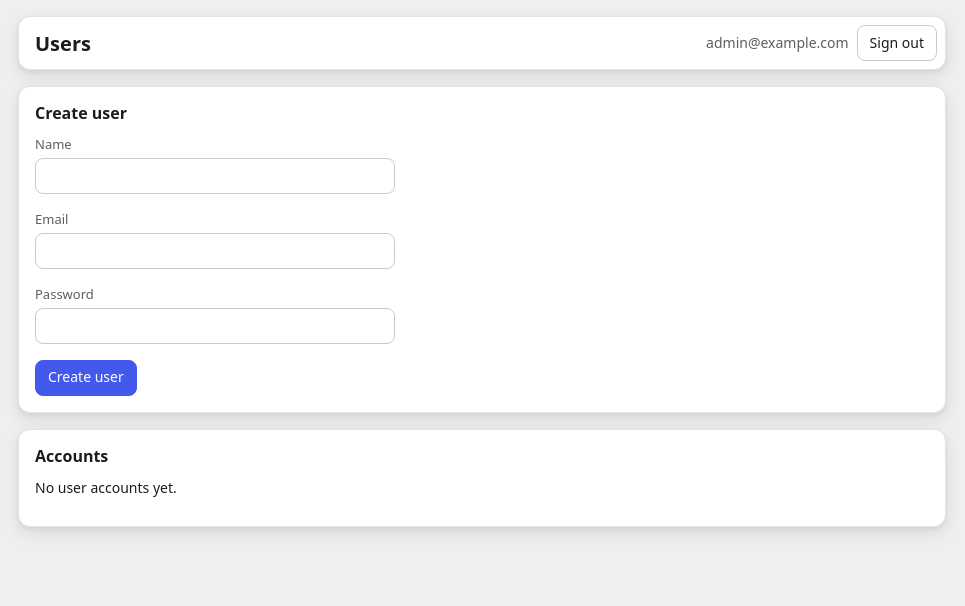
Test: /admin/users — учётные записи (ADM-02…ADM-07) › ADM-03: созданная учётка появляется в списке, форма очищается
The image size is (965, 606).
Expected: the text "No user accounts yet." is shown, left=35, top=478, right=177, bottom=496
Type "Carol" into the field labelled "Name" at (215, 176), box left=35, top=158, right=395, bottom=194
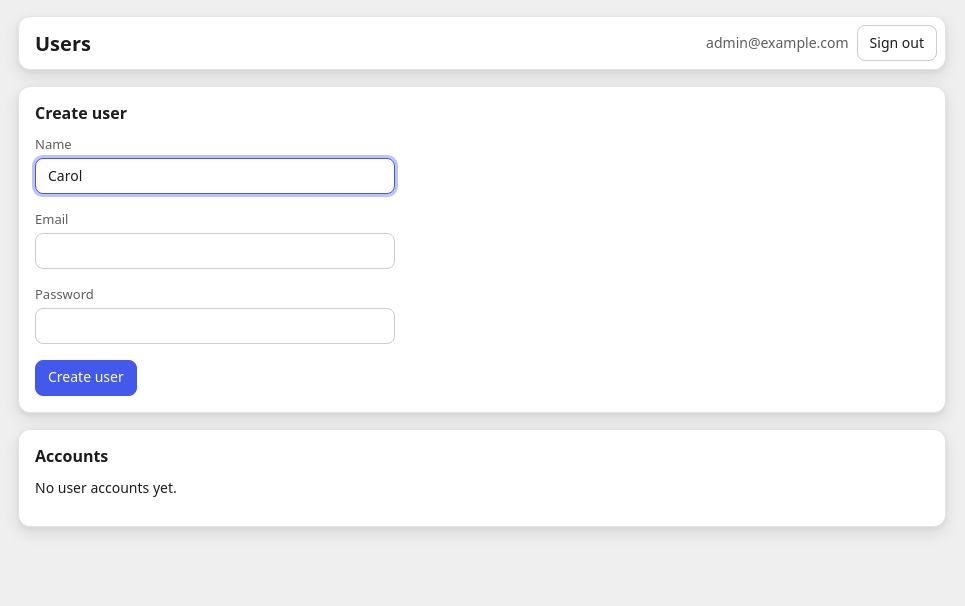
Type "carol@example.com" into the field labelled "Email" at (215, 251), box left=35, top=233, right=395, bottom=269
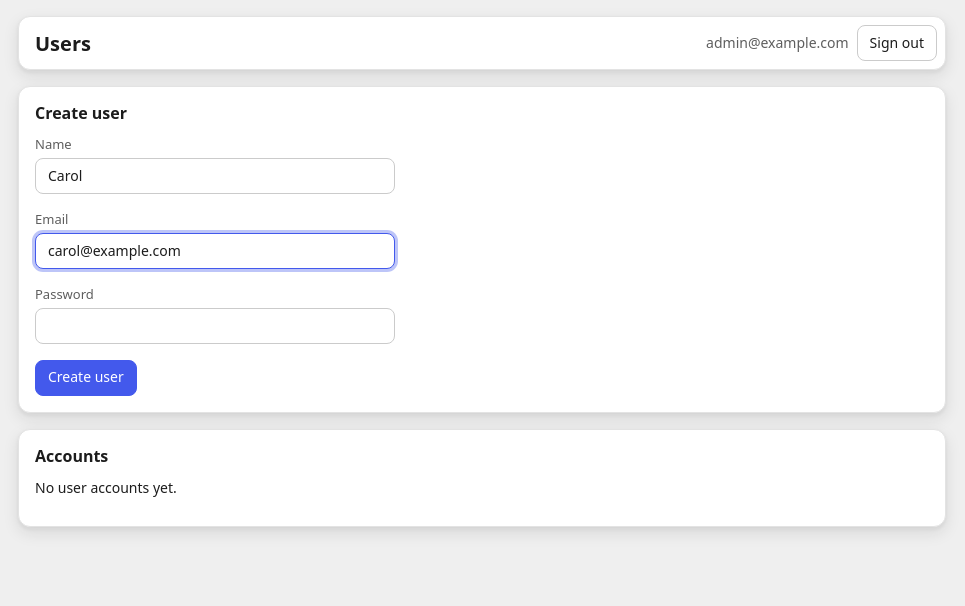
Type "carol-pw" into the password field labelled "Password" at (215, 326), box left=35, top=308, right=395, bottom=344
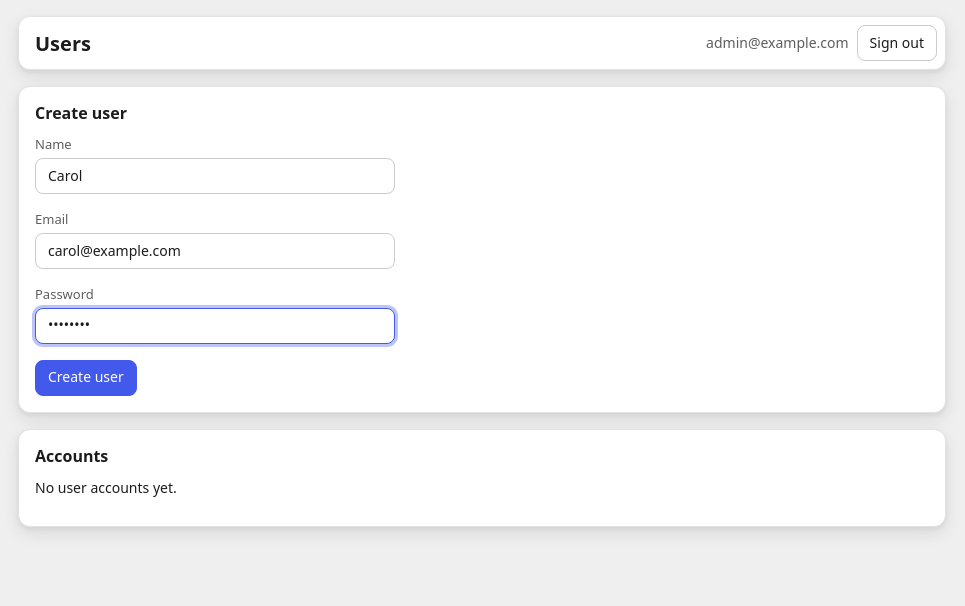
Click the button "Create user" at (86, 378), box left=35, top=360, right=137, bottom=396
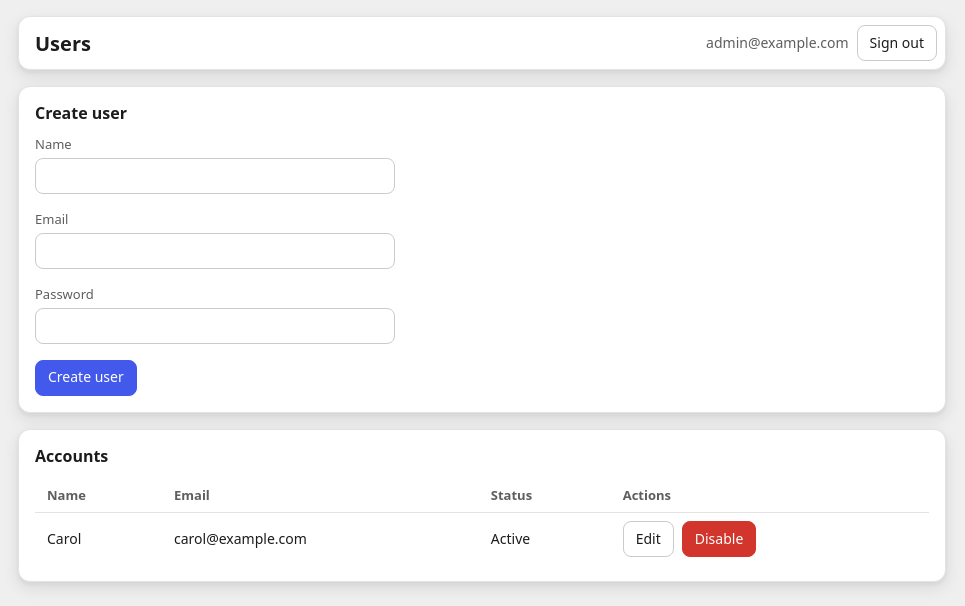
Expected: the row "carol@example.com" is shown, left=47, top=529, right=81, bottom=548
Expected: the field labelled "Email" is empty, left=35, top=233, right=395, bottom=269
